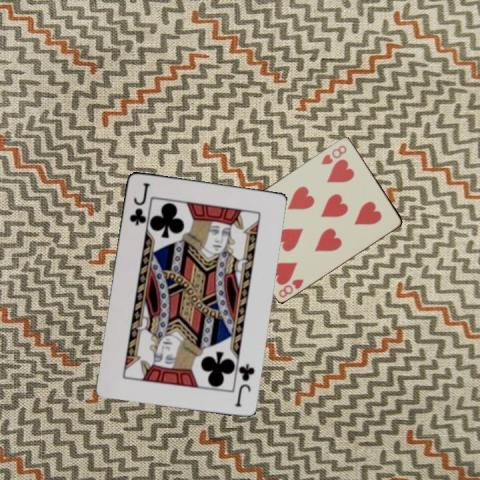8h: (318, 141, 348, 166), (276, 275, 306, 299)
Jc: (231, 360, 256, 408), (126, 179, 150, 226)
